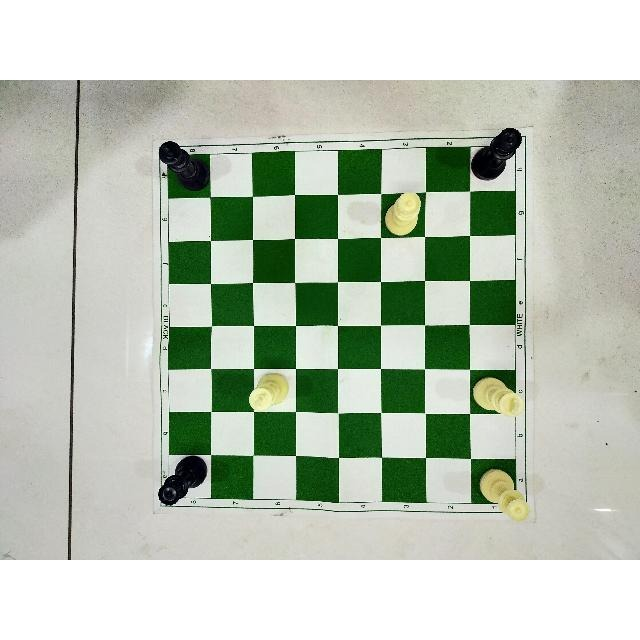black-king: (156, 138, 211, 194)
black-queen: (468, 128, 523, 188), (156, 453, 212, 508)
white-king: (470, 373, 526, 423), (246, 371, 291, 411)
white-queen: (478, 465, 534, 523), (383, 189, 423, 238)
